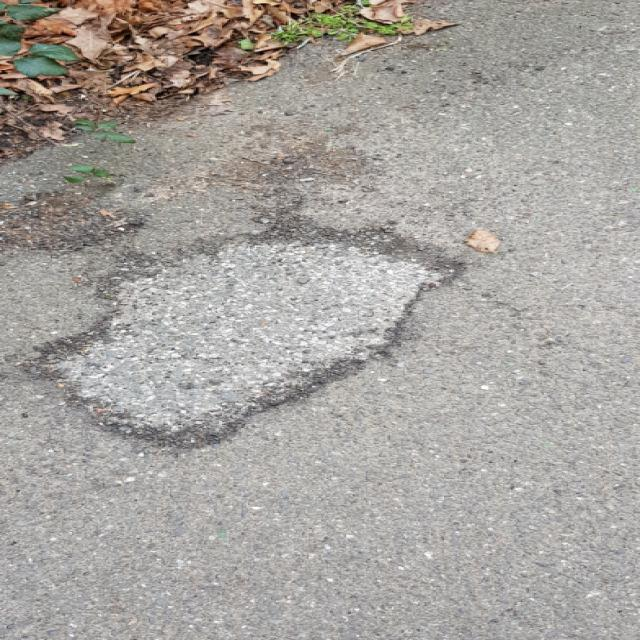pothole: (15, 212, 467, 454)
